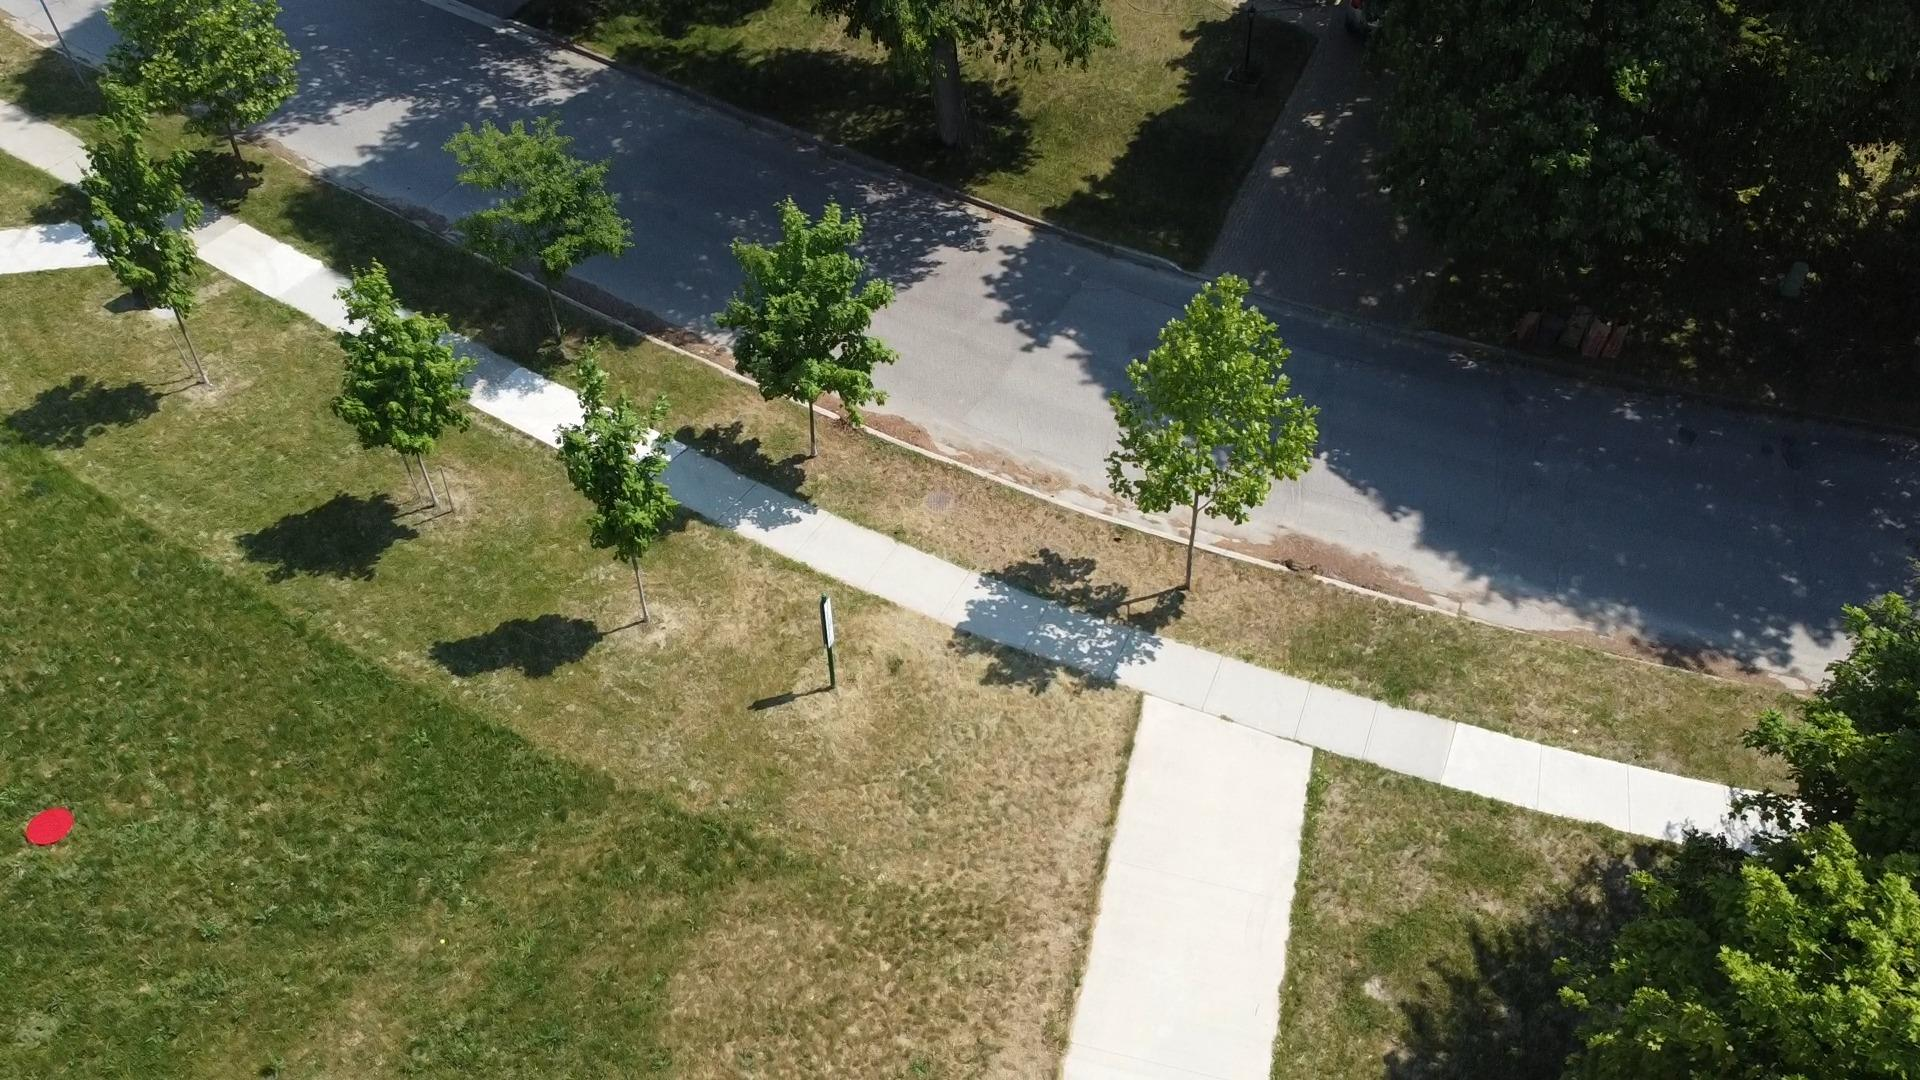Red: (24, 807, 75, 847)
